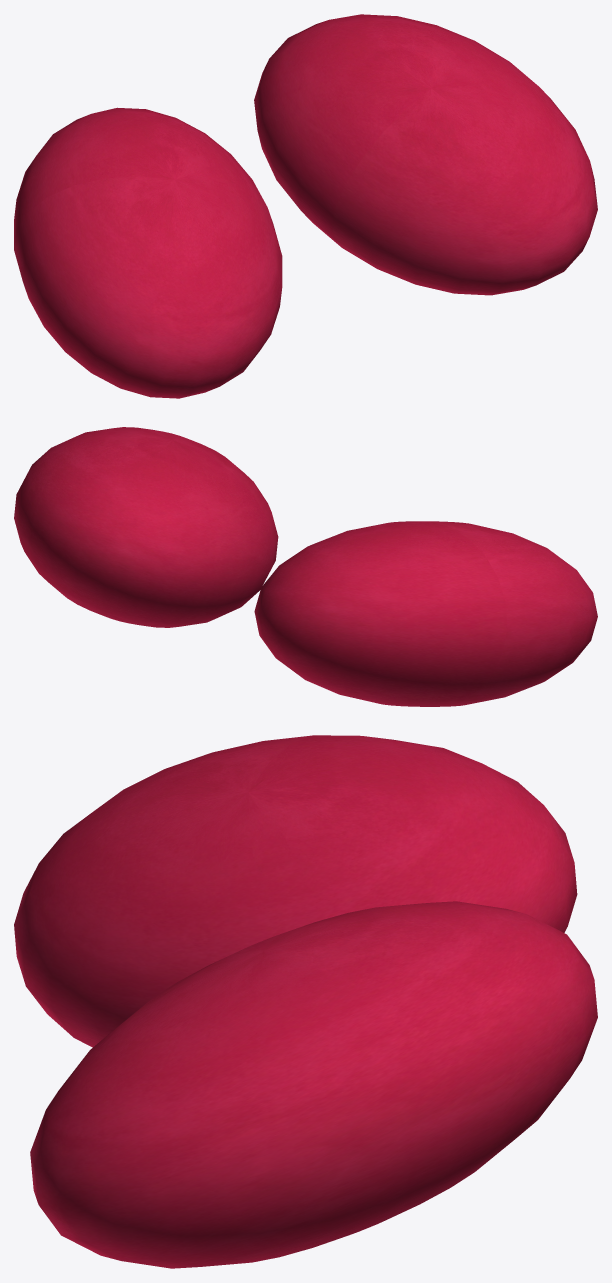
File: feet.obj
The picture shows the model from 3 angles, top to bottom: view 1: azimuth 30°, elevation 25°; view 2: azimuth 150°, elevation 25°; view 3: azimuth 270°, elevation 25°; orthographic projection. The views are drawn at different scales.
Parts seen in each view (by area): view 1: KP_KirbyFeet; view 2: KP_KirbyFeet; view 3: KP_KirbyFeet.
Boxes of the visible parts, bbox=[...] form: KP_KirbyFeet: bbox=[14, 14, 597, 398]; KP_KirbyFeet: bbox=[14, 427, 597, 706]; KP_KirbyFeet: bbox=[14, 735, 597, 1268].
Size of the model in its own units: 4.23 by 1.67 by 2.59.
Materials: 1 (1 with a texture image).
